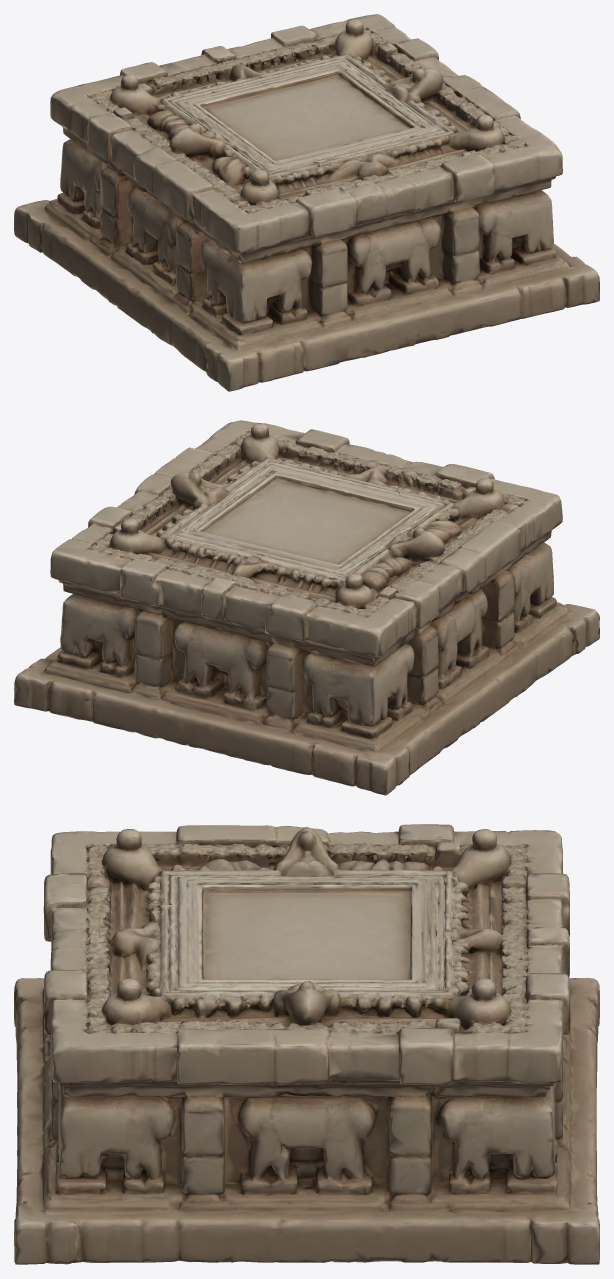
Rendered from aged-sandstone-pillar-base-optimized.glb.
The picture shows the model from 3 angles, top to bottom: view 1: azimuth 30°, elevation 25°; view 2: azimuth 150°, elevation 25°; view 3: azimuth 270°, elevation 25°; orthographic projection. The views are drawn at different scales.
Parts seen in each view (by area): view 1: world; view 2: world; view 3: world.
Boxes of the visible parts, x1,y1,x2,y2 form: world: [14, 14, 599, 391]; world: [14, 420, 599, 795]; world: [14, 824, 599, 1264].
Bounding box in the file's own units: 1 × 0.4424 × 0.9966.
1 material, 1 textured.
